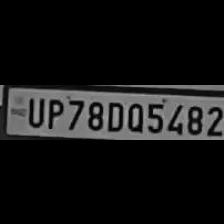2: (204, 100, 222, 136)
4: (165, 99, 183, 134)
5: (145, 97, 163, 132)
7: (64, 96, 84, 130)
8: (84, 97, 104, 130), (184, 100, 202, 134)
D: (105, 97, 123, 131)
P: (43, 96, 62, 128)
Q: (124, 97, 144, 132)
U: (23, 94, 44, 128)
